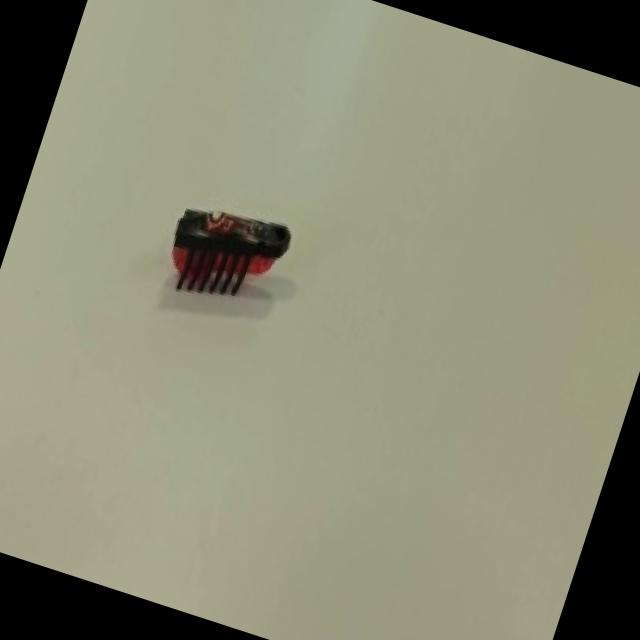2_NanoBug_Negro: (122, 152, 328, 355)
